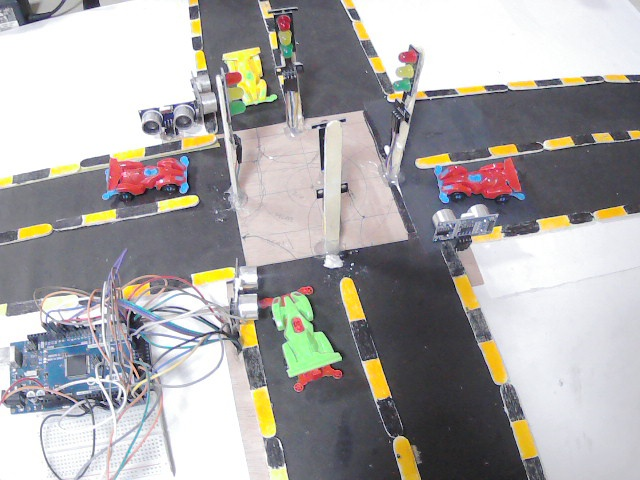black_strip: (348, 318, 380, 353), (375, 393, 399, 434), (245, 345, 270, 379), (471, 308, 493, 345), (7, 169, 46, 188), (509, 219, 547, 237), (5, 298, 41, 316), (505, 383, 521, 422), (84, 287, 114, 304), (449, 151, 483, 165), (85, 158, 113, 175), (429, 84, 452, 103), (528, 453, 543, 480), (376, 69, 396, 88), (268, 437, 281, 466), (0, 228, 22, 245), (446, 245, 461, 269), (522, 138, 543, 155), (575, 204, 591, 225), (191, 36, 213, 51), (490, 79, 508, 94), (532, 76, 547, 91), (189, 8, 203, 23), (596, 72, 610, 86), (614, 128, 626, 144), (365, 37, 374, 57), (576, 134, 588, 149), (346, 2, 357, 17), (627, 201, 634, 211)
car: (273, 300, 342, 386), (222, 48, 267, 104), (93, 167, 186, 190), (432, 173, 517, 194)
mixed_lane: (340, 0, 636, 97), (440, 254, 545, 480), (334, 275, 418, 480), (0, 132, 215, 188), (0, 272, 242, 318), (409, 120, 640, 167), (0, 196, 203, 244), (232, 319, 289, 480), (480, 200, 640, 243)
uno_breadboard: (26, 327, 142, 402), (138, 102, 213, 129), (440, 221, 496, 242), (193, 65, 213, 118)
yellow_strip: (475, 341, 506, 382), (392, 434, 419, 480), (191, 266, 241, 288), (363, 358, 389, 398), (255, 386, 275, 436), (338, 275, 362, 313), (514, 419, 537, 455), (41, 291, 77, 313), (180, 130, 216, 151), (454, 275, 475, 307), (118, 145, 146, 165), (411, 154, 450, 168), (115, 281, 149, 297), (589, 205, 622, 221), (235, 318, 256, 343), (545, 134, 574, 151), (487, 142, 516, 159), (469, 227, 500, 242), (24, 225, 51, 242), (543, 210, 566, 228), (349, 18, 367, 39), (51, 163, 77, 177), (392, 91, 425, 101), (90, 211, 115, 223), (591, 127, 611, 142), (371, 53, 386, 73), (192, 53, 209, 67), (608, 73, 629, 84), (510, 82, 535, 91), (460, 87, 485, 95), (191, 20, 203, 36), (274, 467, 288, 480), (0, 176, 10, 193), (566, 76, 580, 86), (633, 126, 640, 136), (346, 1, 351, 8)
